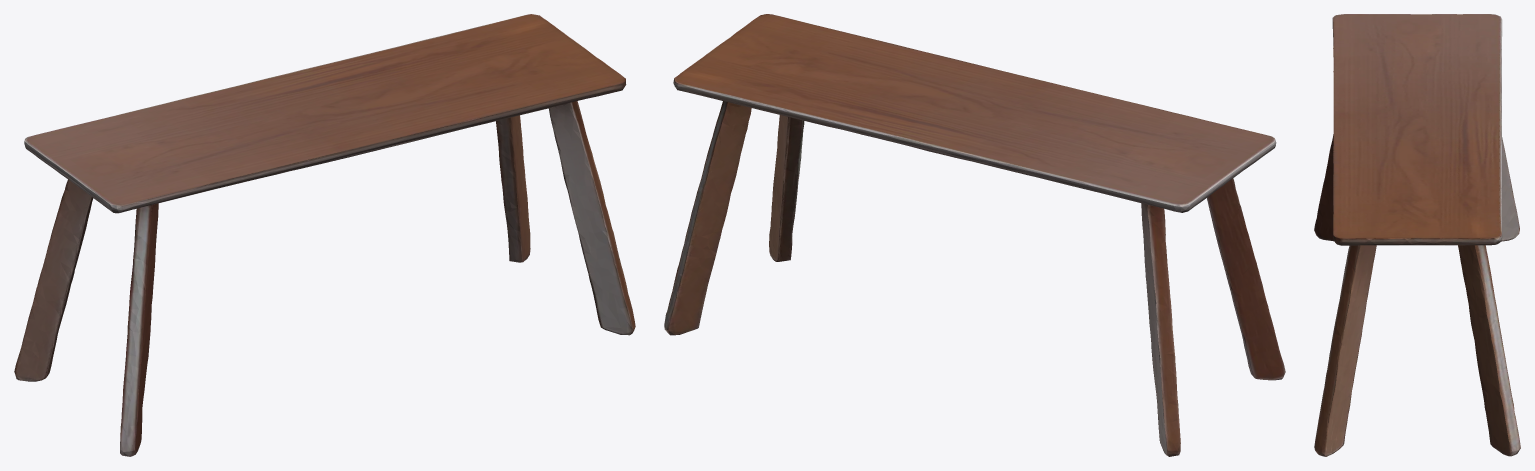
File: ast_95c2097ced78.glb
The picture shows the model from 3 angles, left to right: view 1: azimuth 30°, elevation 25°; view 2: azimuth 150°, elevation 25°; view 3: azimuth 270°, elevation 25°; orthographic projection. The views are drawn at different scales.
Parts seen in each view (by area): view 1: geometry_0; view 2: geometry_0; view 3: geometry_0.
Part boxes in pixels (x1,y1,x2,y2): geometry_0: (14,14,635,456); geometry_0: (664,14,1285,456); geometry_0: (1314,14,1520,456).
Size of the model in its own units: 1 by 0.4563 by 0.3887.
Materials: 1 (1 with a texture image).
